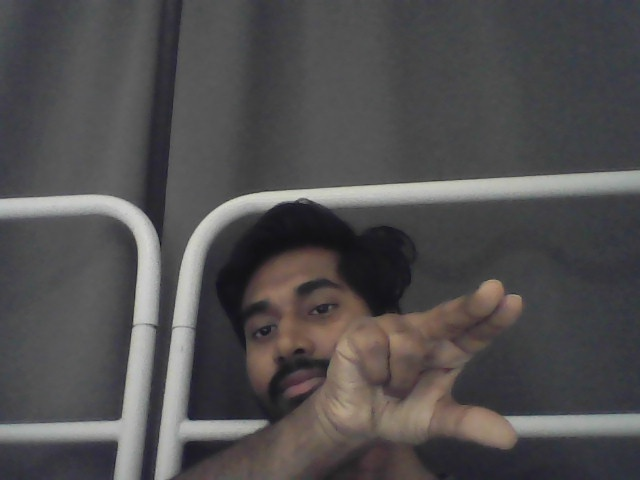no: (319, 278, 525, 455)
